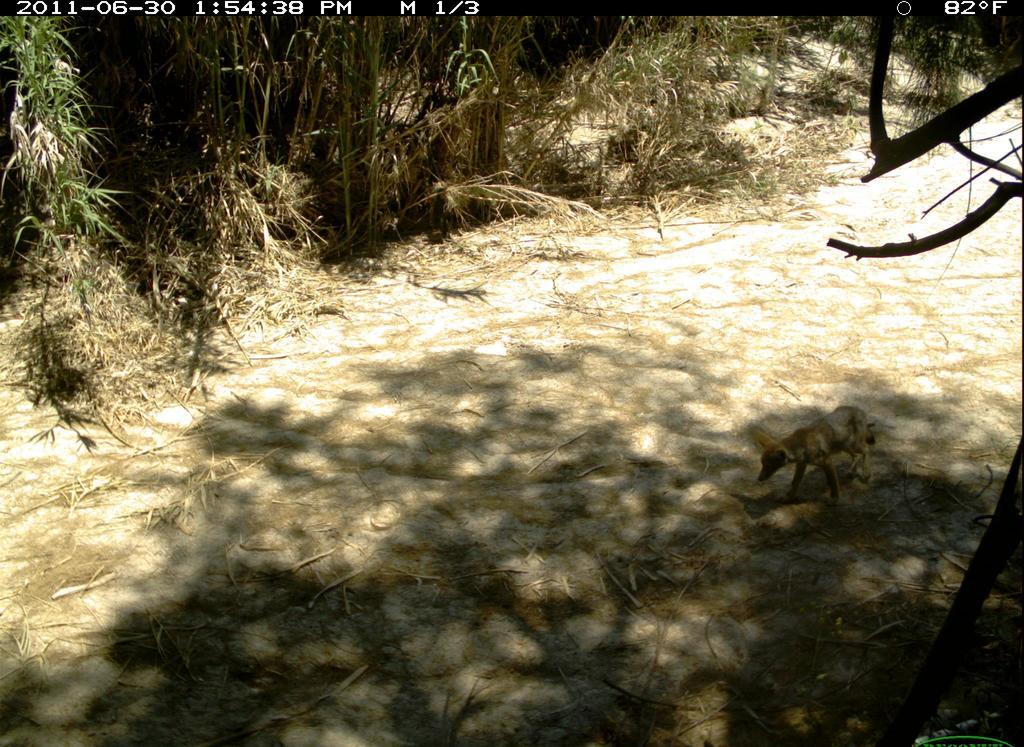coyote: (751, 401, 886, 512)
